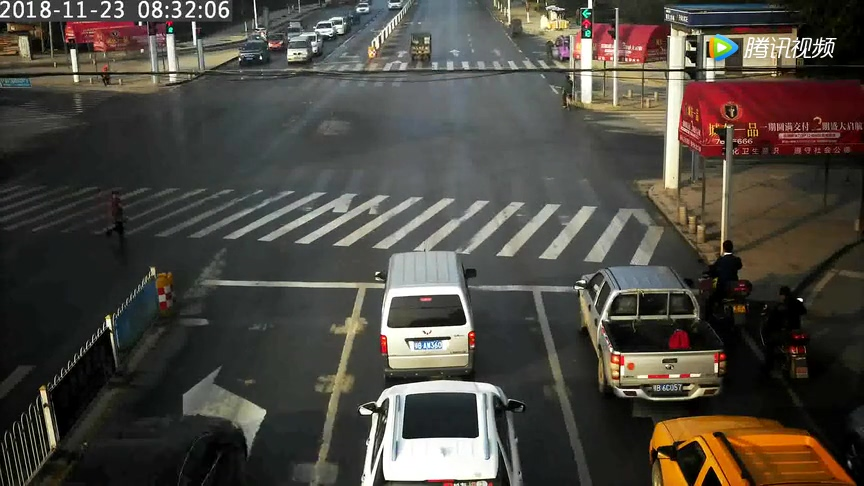car: (566, 256, 737, 409), (342, 367, 542, 486), (366, 240, 503, 378), (232, 36, 276, 71), (399, 26, 437, 66), (279, 38, 320, 66), (312, 16, 338, 39), (350, 6, 374, 17)
person: (764, 274, 810, 390), (696, 236, 746, 334), (98, 187, 134, 259), (556, 69, 576, 113), (540, 37, 559, 70), (98, 67, 112, 90)
